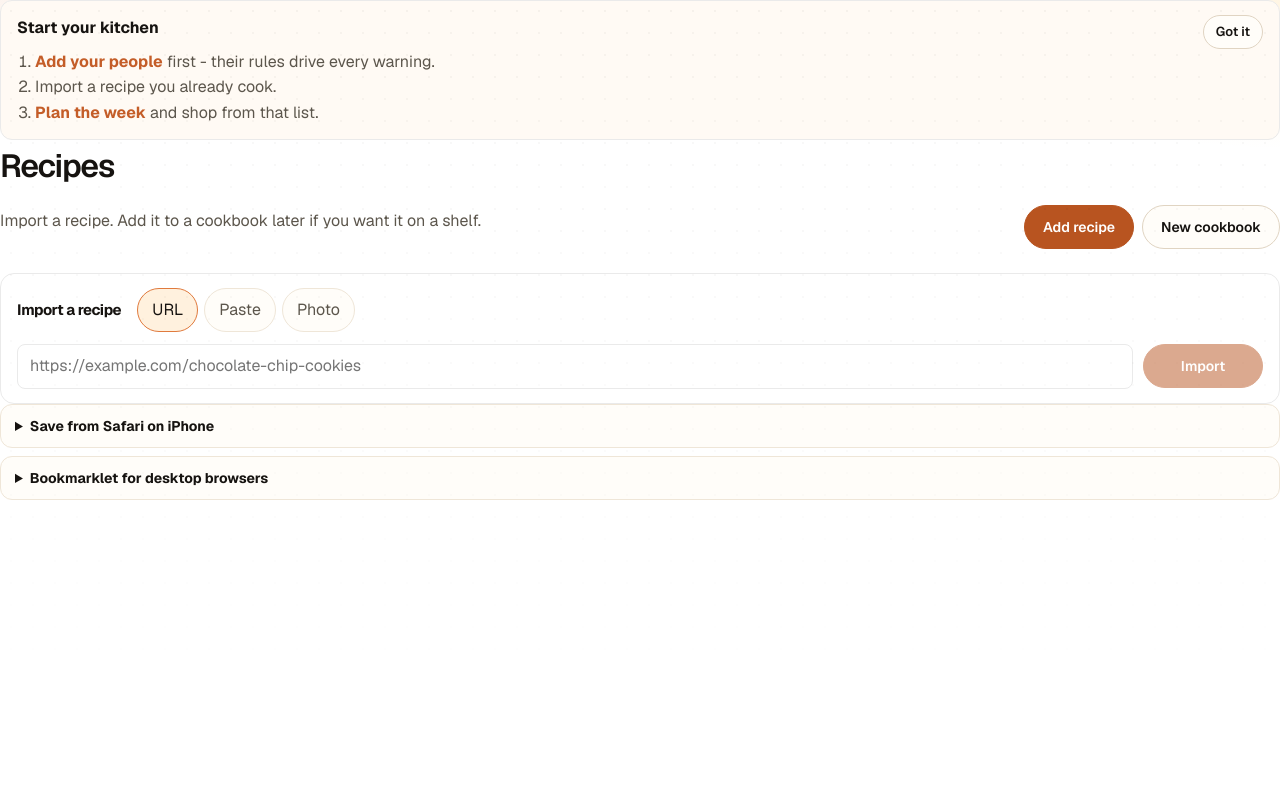
kitchen sheet-hosted forms › keeps focus while typing a new cookbook name
Click the button "New cookbook" at [1211, 227], box top-left (1142, 205), bottom-right (1279, 249)
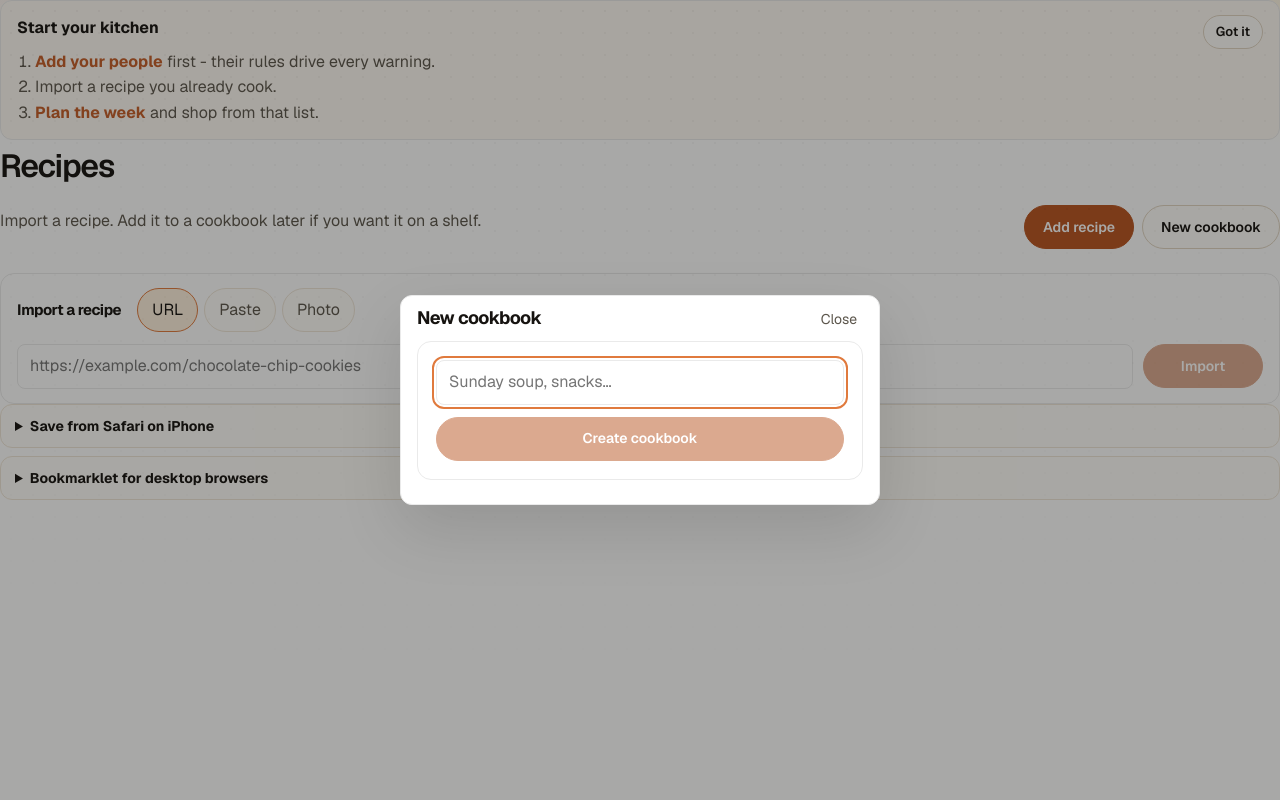
Type keys "Sunday"
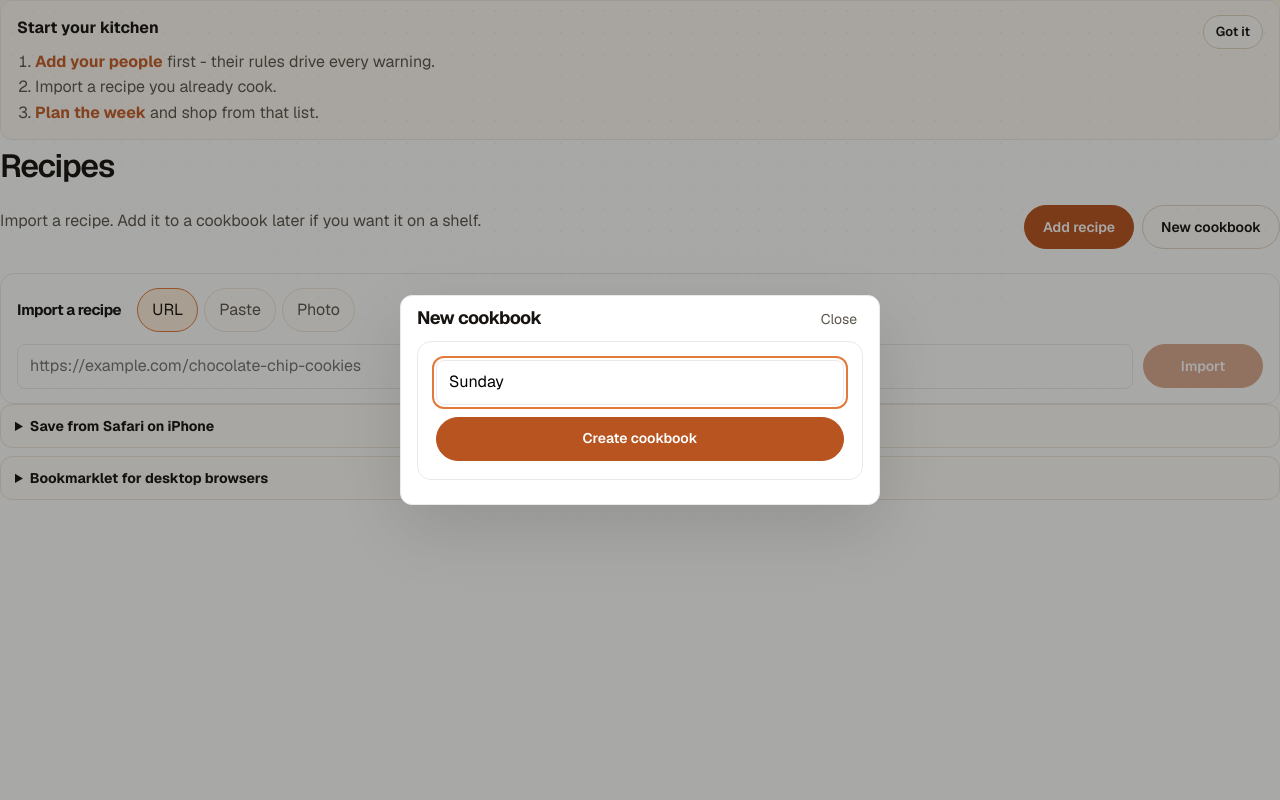
Expected: the field with placeholder "Sunday soup, snacks…" holds "Sunday", top-left (436, 360), bottom-right (844, 405)
